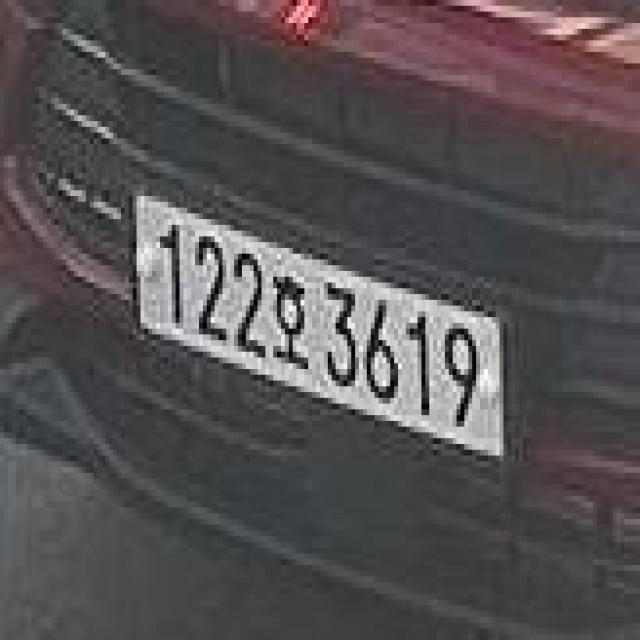illegal_plate: (131, 184, 511, 476)
